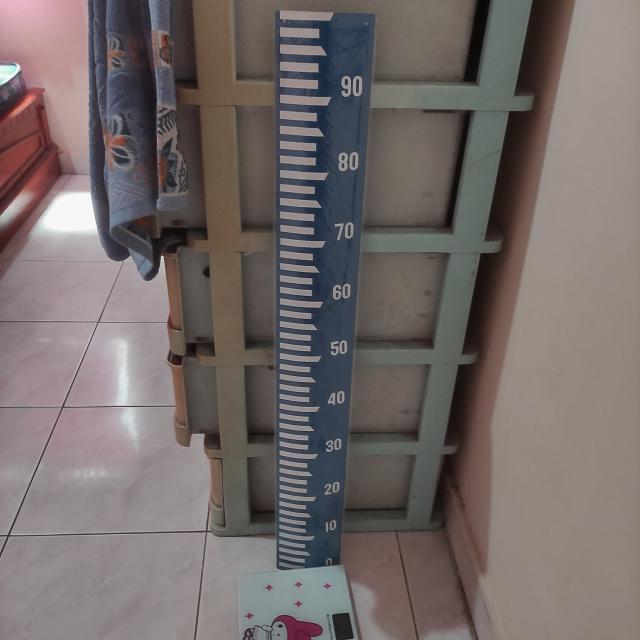10: (323, 517, 340, 534)
20: (324, 480, 341, 498)
30: (326, 437, 344, 454)
40: (328, 390, 347, 408)
50: (330, 337, 350, 358)
60: (330, 280, 353, 305)
70: (334, 219, 356, 242)
80: (335, 150, 360, 173)
90: (340, 71, 364, 102)
staff: (278, 9, 376, 571)
